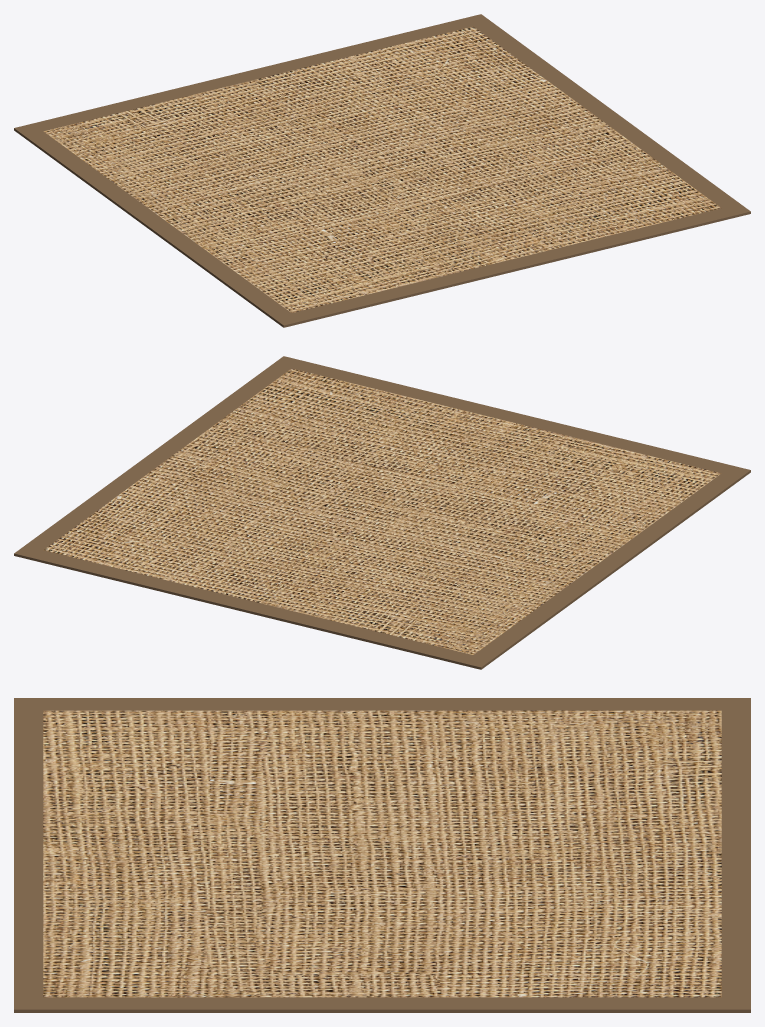
The model's file is moquette.glb.
3 views of the same model, one above another, from view 1: azimuth 30°, elevation 25°; view 2: azimuth 150°, elevation 25°; view 3: azimuth 270°, elevation 25° (orthographic). The views are drawn at different scales.
Parts seen in each view (by area): view 1: Moquette; view 2: Moquette; view 3: Moquette.
Part boxes in pixels (x1=…): Moquette: x1=14, y1=14, x2=750, y2=327; Moquette: x1=14, y1=356, x2=750, y2=669; Moquette: x1=14, y1=698, x2=750, y2=1012.
Size of the model in its own units: 26.27 by 0.1268 by 26.27.
2 materials, 1 textured.
